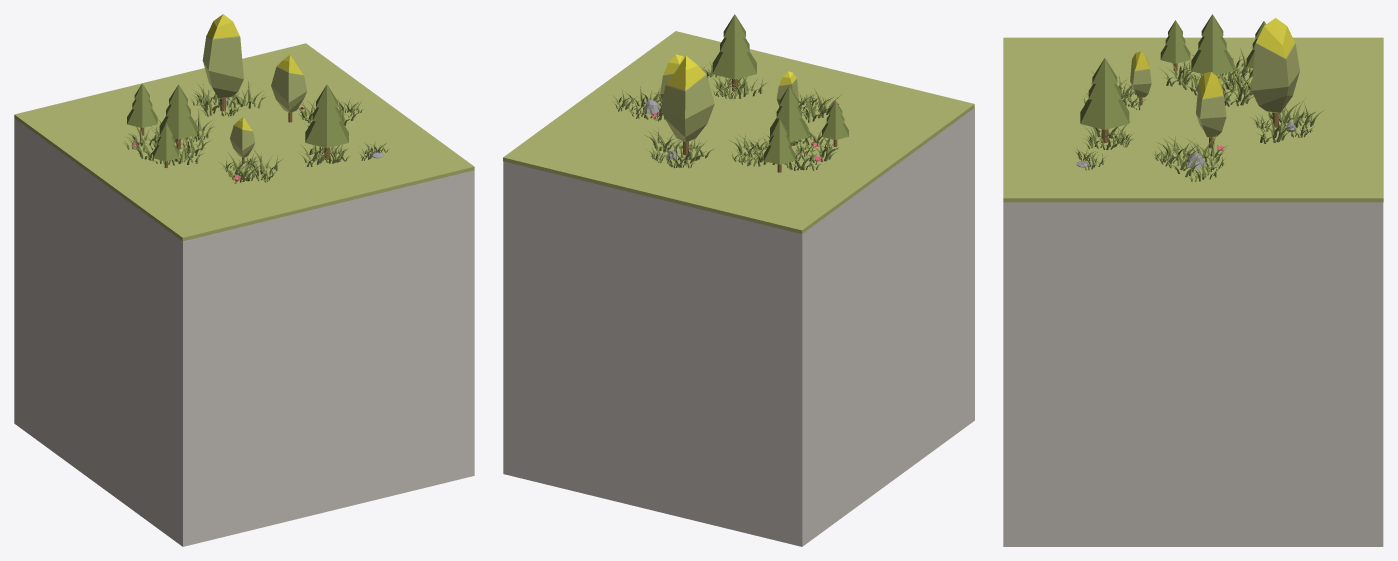
The model's file is GrassLand3.fbx.
3 renders of one model, left to right at view 1: azimuth 30°, elevation 25°; view 2: azimuth 150°, elevation 25°; view 3: azimuth 270°, elevation 25°, orthographic. The views are drawn at different scales.
Parts seen in each view (by area): view 1: gras_3; view 2: gras_3; view 3: gras_3.
Boxes of the visible parts, x1,y1,x2,y2 form: gras_3: (14,14,474,546); gras_3: (503,14,974,546); gras_3: (1003,14,1383,546).
Size of the model in its own units: 12 by 15.93 by 12.02.
